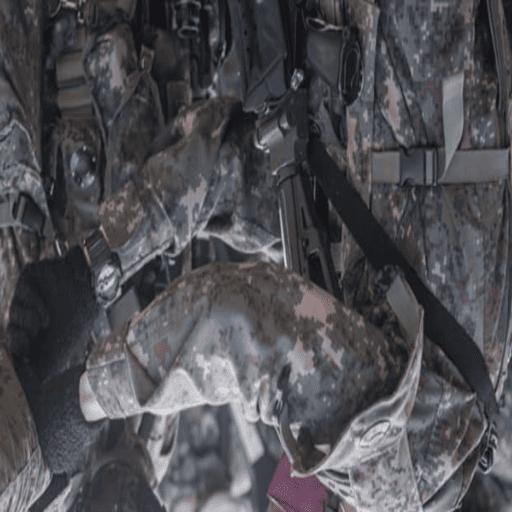korea army: (0, 2, 508, 508)
